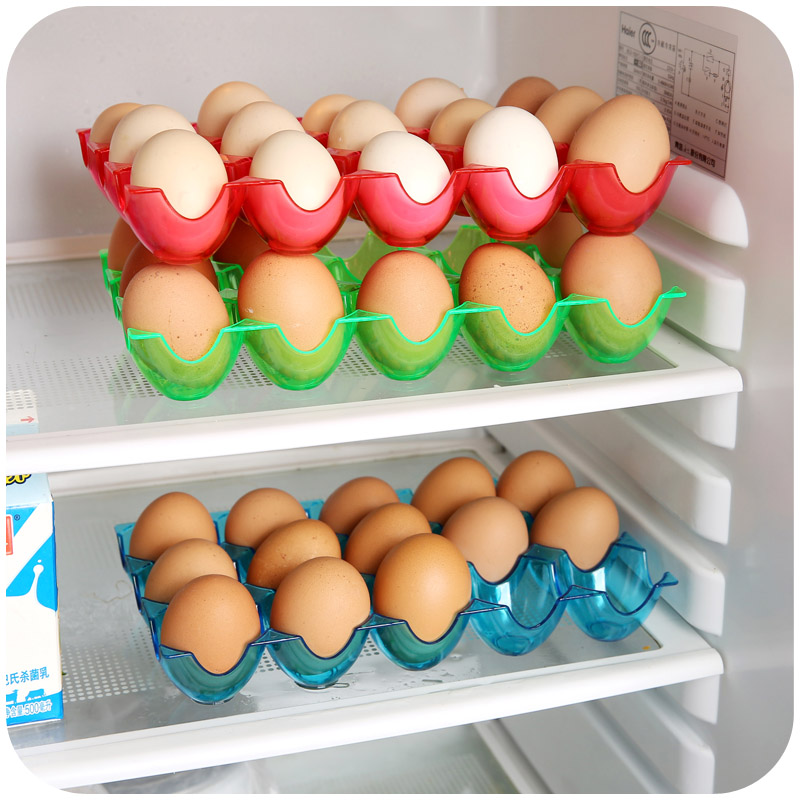egg: (112, 446, 663, 682), (79, 67, 686, 246), (93, 200, 681, 374)
